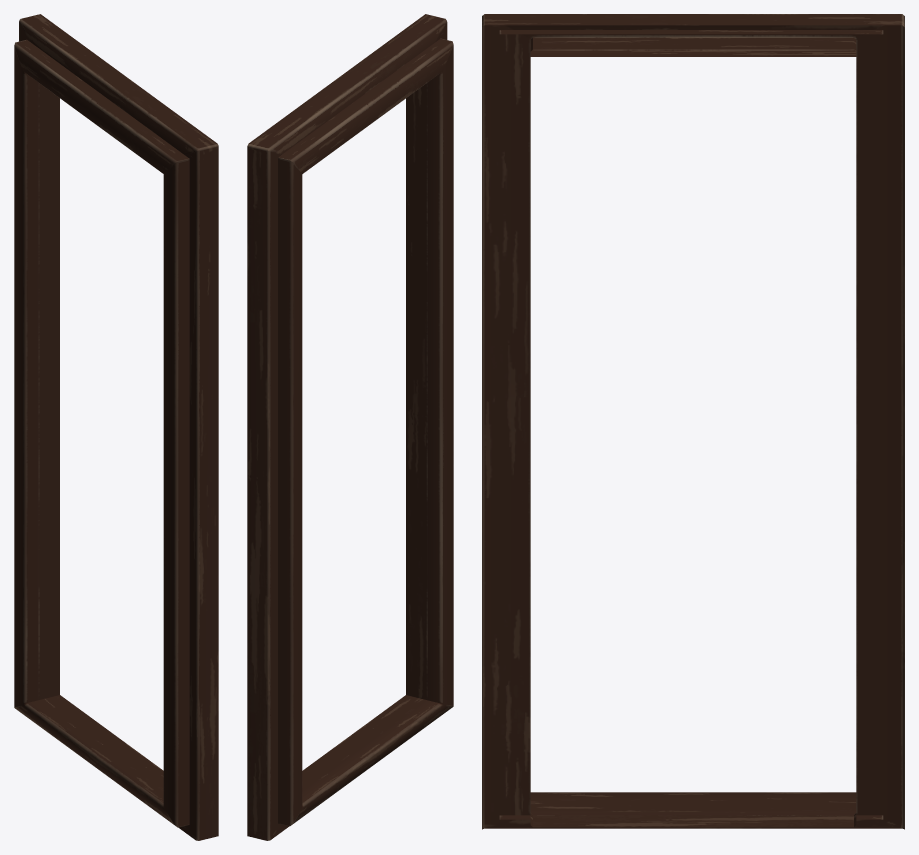
Rendered from SM_DoorBack_Frame.fbx.
3 renders of one model, left to right at view 1: azimuth 30°, elevation 25°; view 2: azimuth 150°, elevation 25°; view 3: azimuth 270°, elevation 25°, orthographic. The views are drawn at different scales.
Visible parts, largest first — view 1: SM_DoorBack_Frame_LOD0; view 2: SM_DoorBack_Frame_LOD0; view 3: SM_DoorBack_Frame_LOD0.
Boxes of the visible parts, x1,y1,x2,y2 form: SM_DoorBack_Frame_LOD0: (14,14,218,840); SM_DoorBack_Frame_LOD0: (247,14,453,840); SM_DoorBack_Frame_LOD0: (482,14,904,829).
Bounding box in the file's own units: 11.66 × 101 × 216.
1 material, 1 textured.
